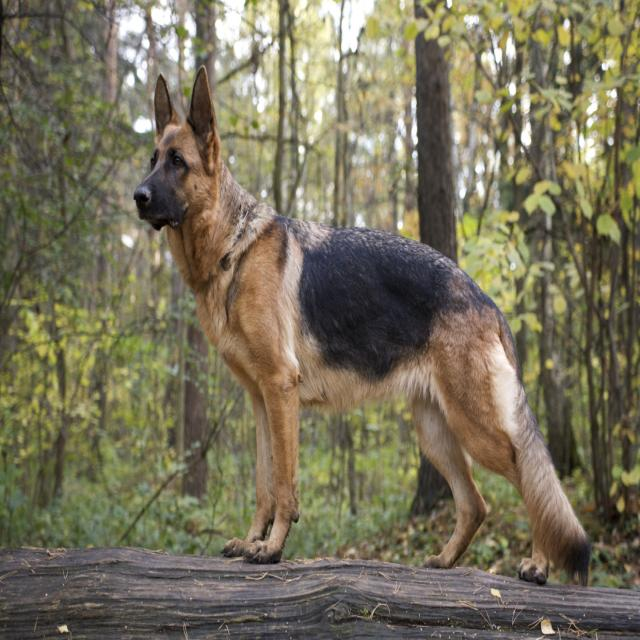GERMAN_SHEPHERD: (128, 49, 596, 607)
